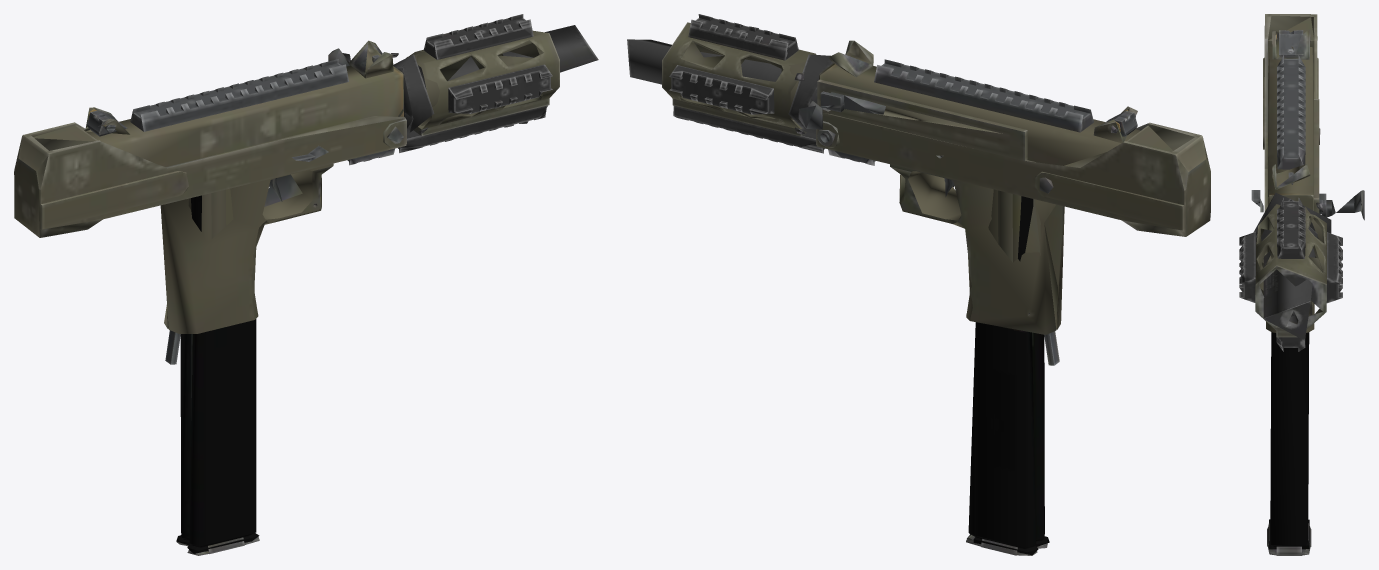
The model's file is smg_lod1.glb.
The picture shows the model from 3 angles, left to right: view 1: azimuth 30°, elevation 25°; view 2: azimuth 150°, elevation 25°; view 3: azimuth 270°, elevation 25°; orthographic projection.
Parts seen in each view (by area): view 1: base, mag, base_2; view 2: base, mag, base_2, bolt; view 3: base_2, base, mag, bolt.
Boxes of the visible parts, left/top/right/bottom form: base: left=14, top=40, right=406, bottom=364; mag: left=176, top=195, right=259, bottom=555; base_2: left=391, top=14, right=598, bottom=153; base: left=816, top=40, right=1210, bottom=365; mag: left=966, top=196, right=1049, bottom=555; base_2: left=627, top=14, right=833, bottom=153; bolt: left=798, top=91, right=885, bottom=129; base_2: left=1239, top=193, right=1342, bottom=351; base: left=1251, top=14, right=1320, bottom=332; mag: left=1267, top=332, right=1311, bottom=555; bolt: left=1319, top=190, right=1364, bottom=220.
Size of the model in its own units: 0.3477 by 0.2711 by 0.0681.
2 materials, 2 textured.
